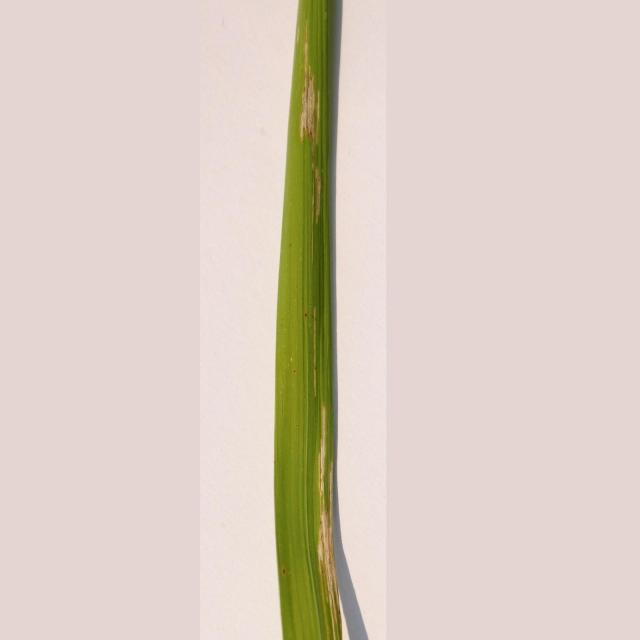leaf blight: (303, 403, 358, 636), (290, 30, 334, 284)
